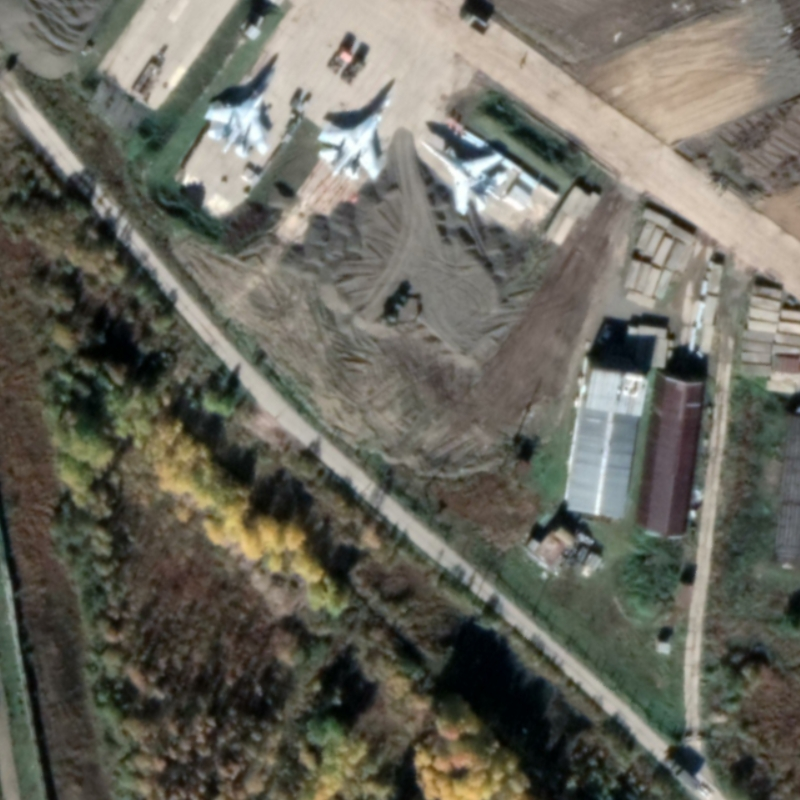A1: (202, 63, 280, 162), (414, 135, 508, 217), (314, 95, 396, 185)
